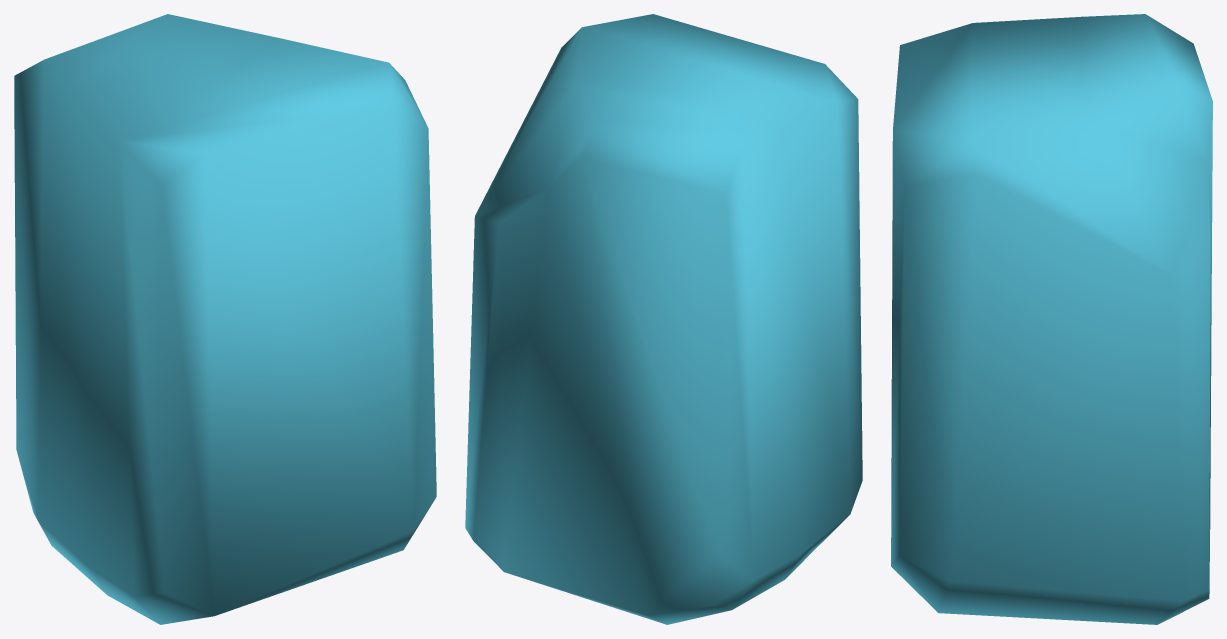
The model's file is big_brick_02.FBX.
The picture shows the model from 3 angles, left to right: view 1: azimuth 30°, elevation 25°; view 2: azimuth 150°, elevation 25°; view 3: azimuth 270°, elevation 25°; orthographic projection. The views are drawn at different scales.
Visible parts, largest first — view 1: big_brick_02; view 2: big_brick_02; view 3: big_brick_02.
Boxes of the visible parts, x1=… form: big_brick_02: x1=14, y1=14, x2=436, y2=624; big_brick_02: x1=465, y1=14, x2=862, y2=624; big_brick_02: x1=891, y1=14, x2=1212, y2=624.
Bounding box in the file's own units: 34.41 × 57.79 × 33.41.
